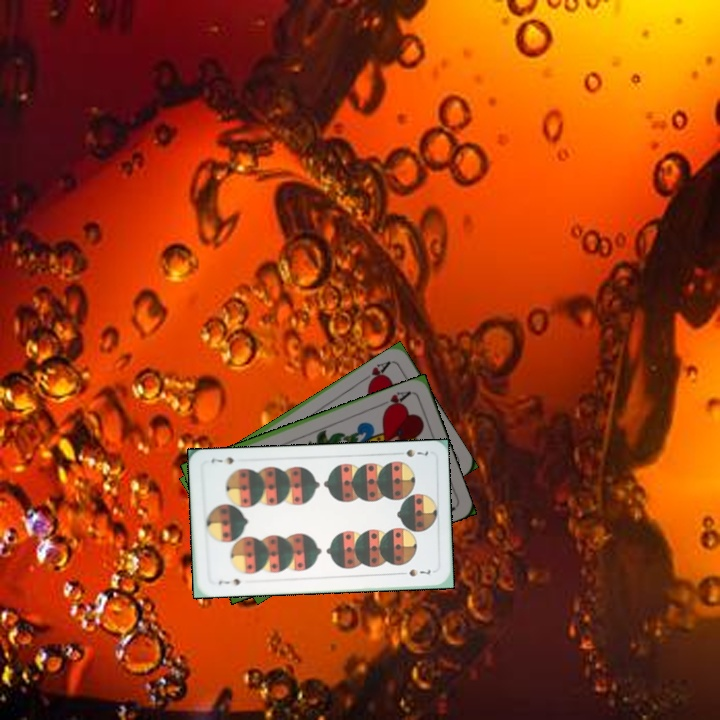HA: (358, 357, 394, 387), (375, 387, 413, 413)
S7: (391, 445, 431, 460), (214, 574, 243, 588)
